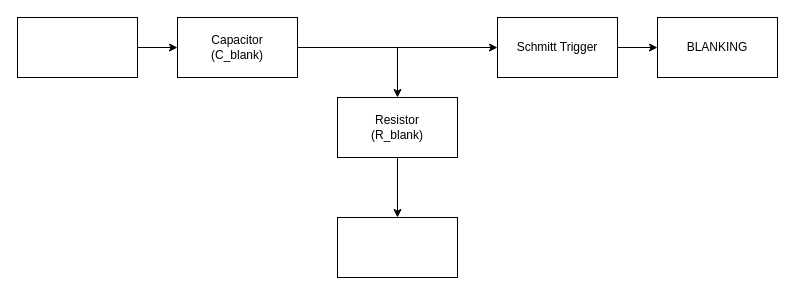
Image size: 795x295. Some labels were removed from this diagram. The shapes that lost their labels are listed below. From the top down, each one's centre as x and y in pixels, then its label:
the point at 77,47: ENABLE_GLOBAL
the point at 397,247: GND
